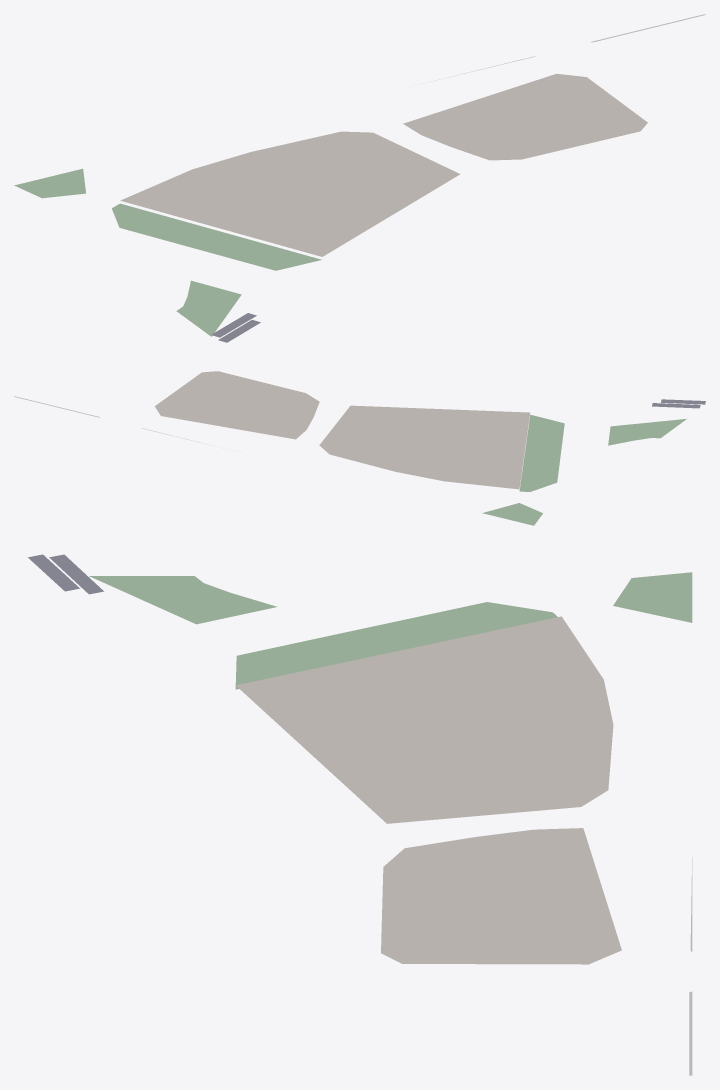
The model's file is 126_67_mid.glb.
The picture shows the model from 3 angles, top to bottom: view 1: azimuth 30°, elevation 25°; view 2: azimuth 150°, elevation 25°; view 3: azimuth 270°, elevation 25°; orthographic projection. The views are drawn at different scales.
Bounding box in the file's own units: 506 × 6.86 × 276.
